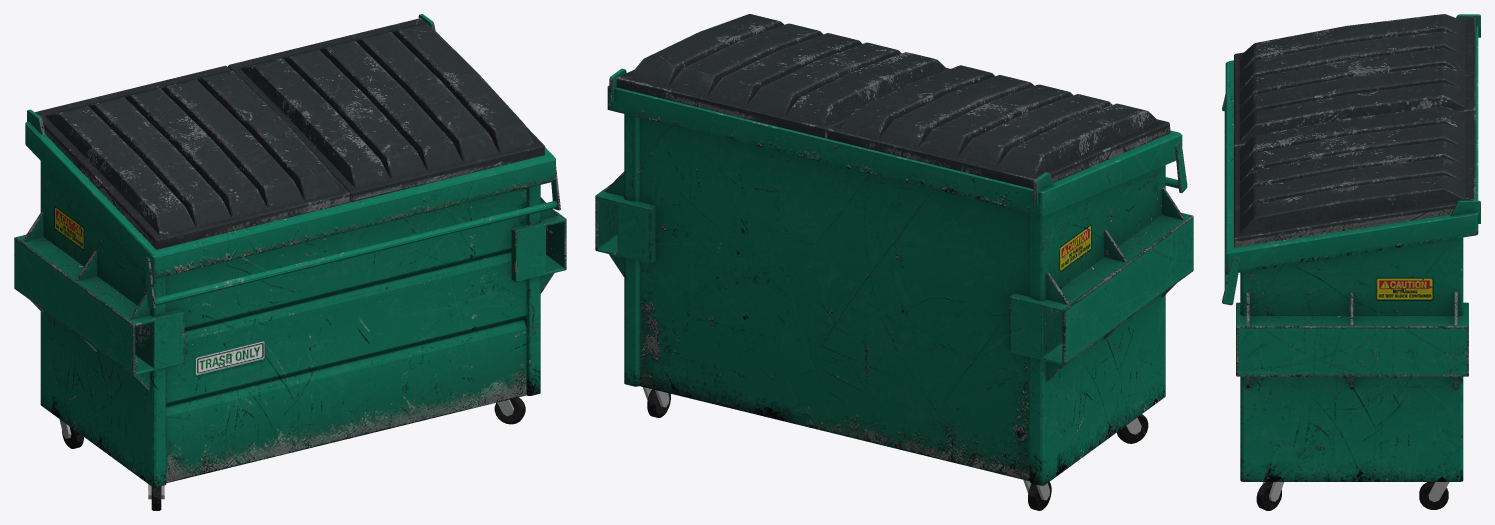
Rendered from bin.glb.
3 renders of one model, left to right at view 1: azimuth 30°, elevation 25°; view 2: azimuth 150°, elevation 25°; view 3: azimuth 270°, elevation 25°, orthographic. The views are drawn at different scales.
Bounding box in the file's own units: 0.0646 × 0.0473 × 0.0343.
Materials: 1 (1 with a texture image).
